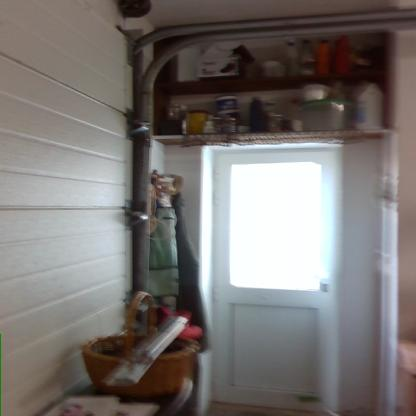closed: (194, 138, 355, 414)
